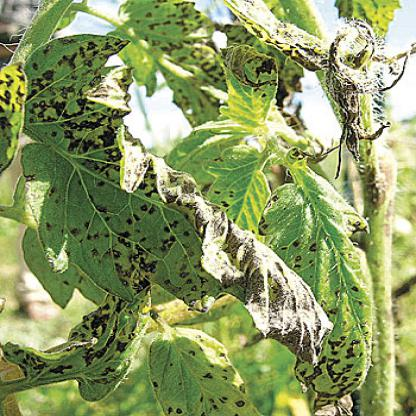Tomato Septoria leaf spot: (17, 41, 330, 349), (259, 165, 401, 408), (143, 326, 277, 415)
